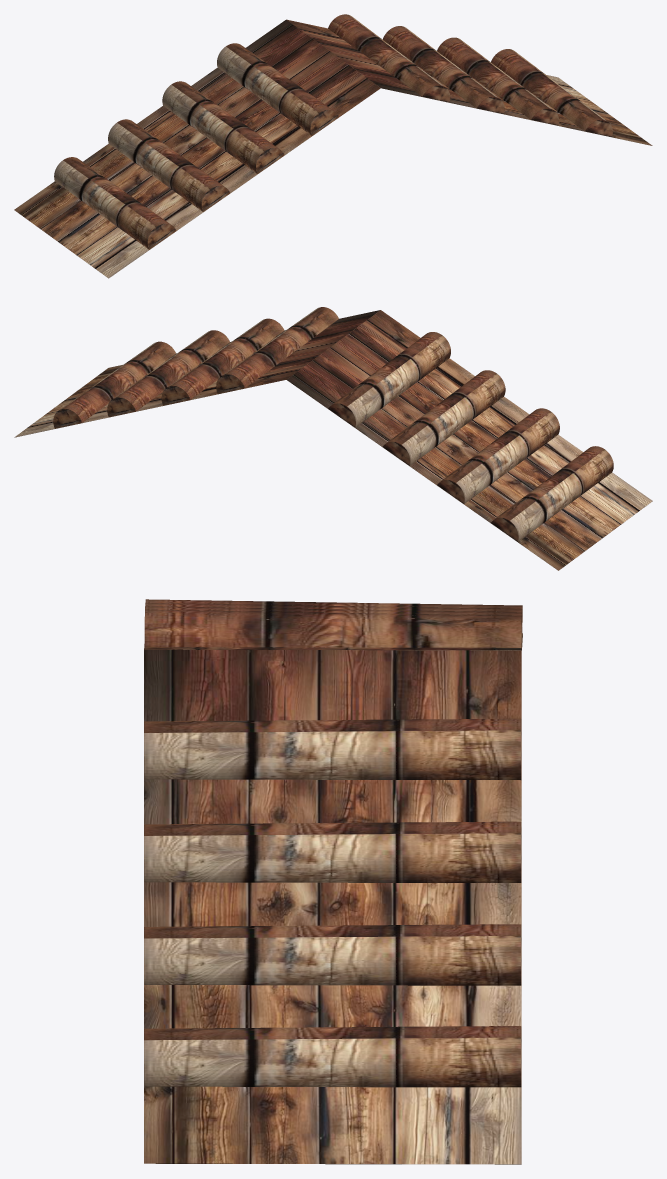
File: A-este%20alo3D.glb
3 views of the same model, one above another, from view 1: azimuth 30°, elevation 25°; view 2: azimuth 150°, elevation 25°; view 3: azimuth 270°, elevation 25° (orthographic). The views are drawn at different scales.
Visible parts, largest first — view 1: Cylinder.005; view 2: Cylinder.005; view 3: Cylinder.005.
Boxes of the visible parts, x1=… form: Cylinder.005: x1=14, y1=14, x2=652, y2=278; Cylinder.005: x1=14, y1=307, x2=652, y2=570; Cylinder.005: x1=144, y1=599, x2=522, y2=1164.
Bounding box in the file's own units: 1.1 × 0.2411 × 0.332.
1 material, 1 textured.
